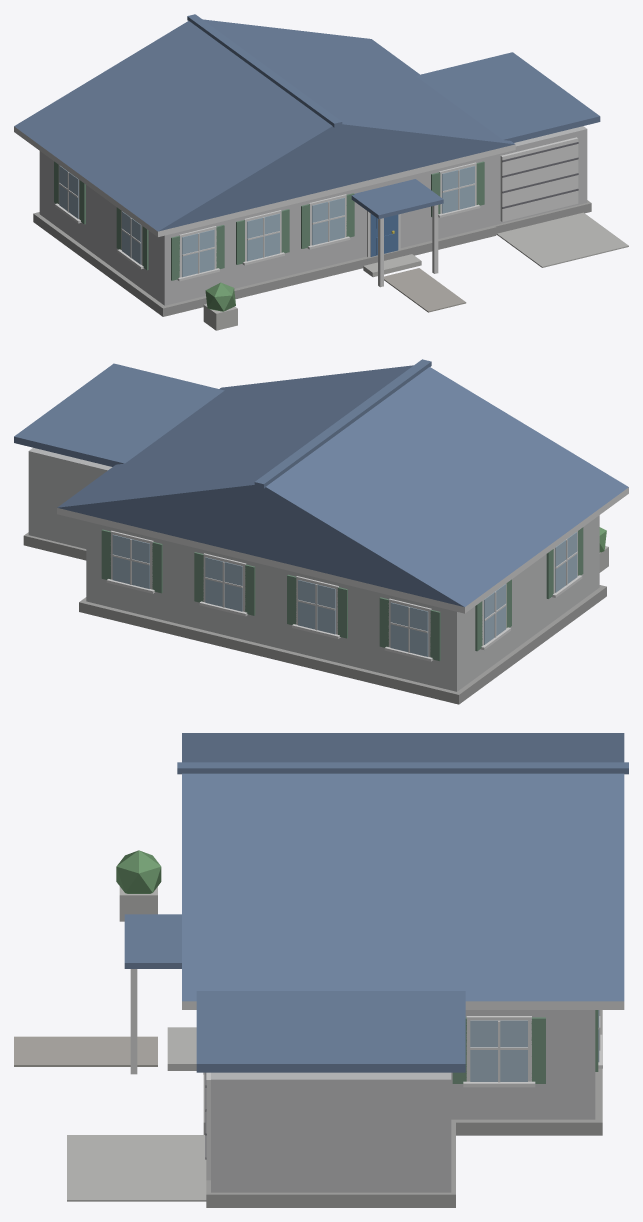
Rendered from Villa_06.glb.
The picture shows the model from 3 angles, top to bottom: view 1: azimuth 30°, elevation 25°; view 2: azimuth 150°, elevation 25°; view 3: azimuth 270°, elevation 25°; orthographic projection. The views are drawn at different scales.
Parts seen in each view (by area): view 1: Villa_06; view 2: Villa_06; view 3: Villa_06.
Part boxes in pixels (x1=…): Villa_06: x1=14, y1=14, x2=628, y2=330; Villa_06: x1=14, y1=359, x2=628, y2=704; Villa_06: x1=14, y1=733, x2=628, y2=1207.
Size of the model in its own units: 16.5 by 5.64 by 12.8.
